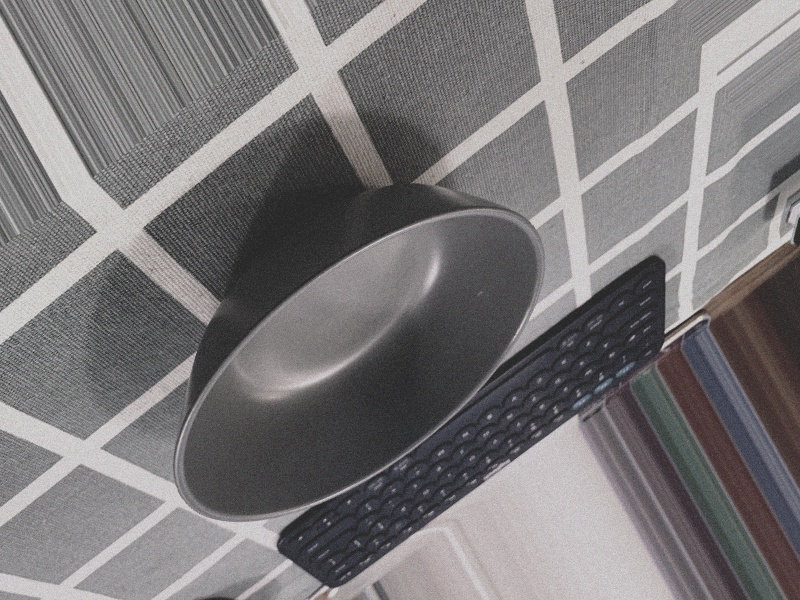bowl_big: (98, 89, 592, 597)
